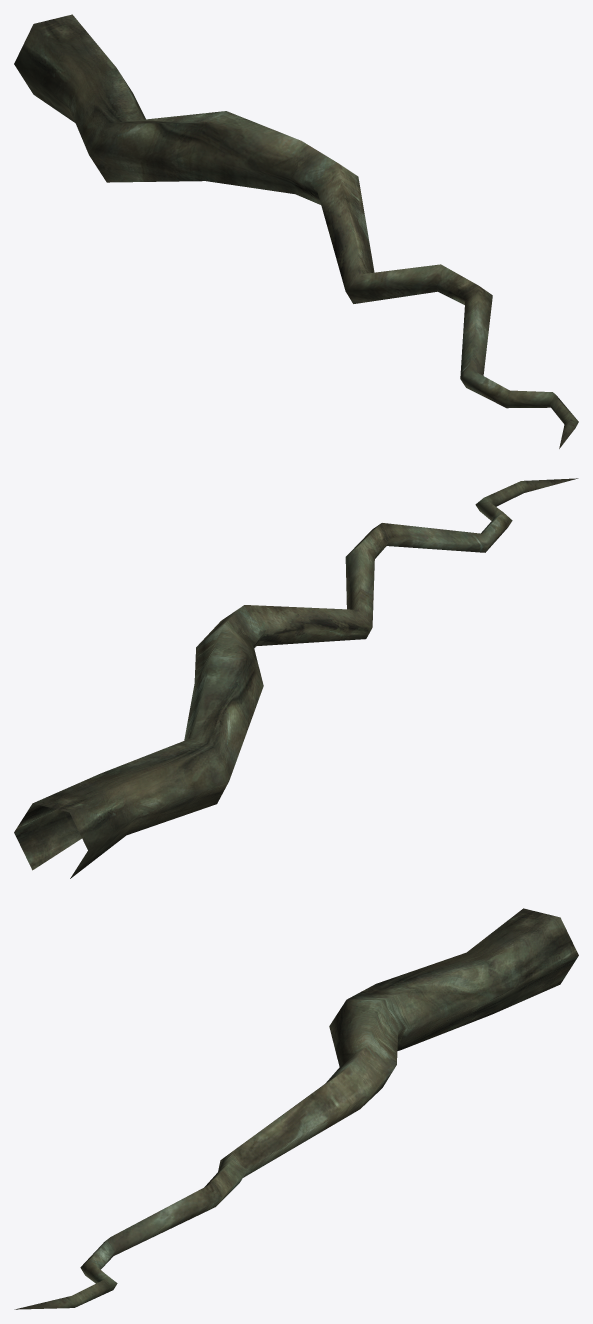
Rendered from Roots_el3.fbx.
3 renders of one model, top to bottom at view 1: azimuth 30°, elevation 25°; view 2: azimuth 150°, elevation 25°; view 3: azimuth 330°, elevation 25°, orthographic. The views are drawn at different scales.
Parts seen in each view (by area): view 1: polySurface3110; view 2: polySurface3110; view 3: polySurface3110.
Boxes of the visible parts, bbox=[...] form: polySurface3110: bbox=[14, 14, 578, 448]; polySurface3110: bbox=[14, 478, 578, 878]; polySurface3110: bbox=[14, 908, 578, 1309].
Size of the model in its own units: 0.8109 by 0.5798 by 5.37.
